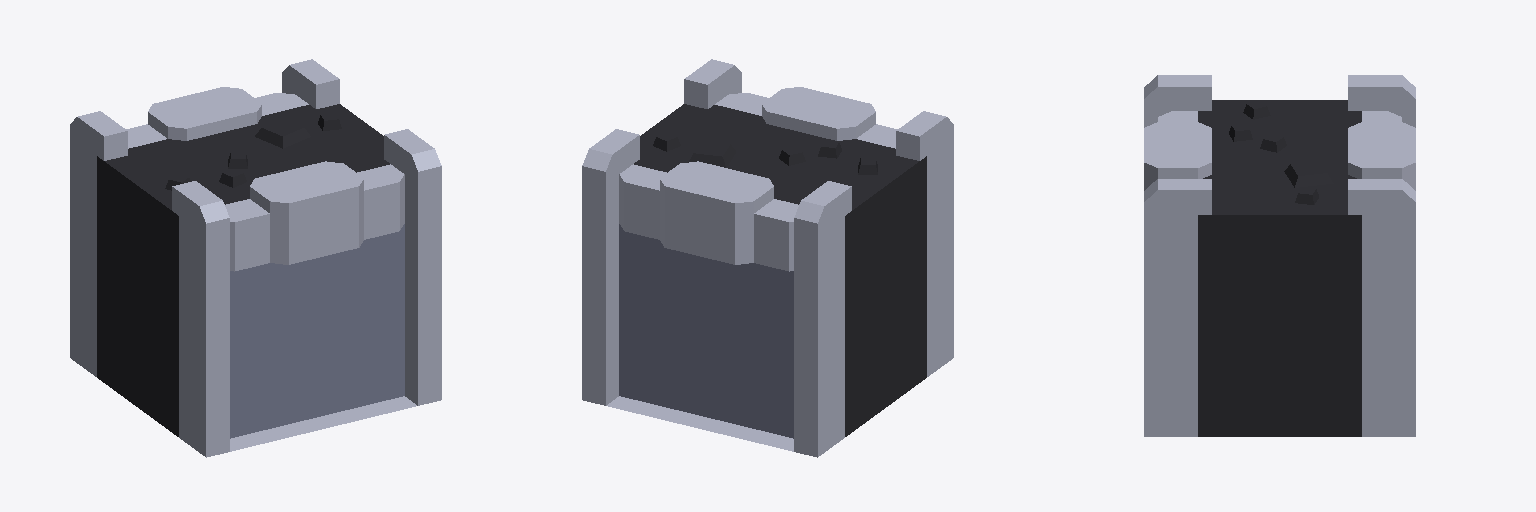
Rendered from wall-narrow.obj.
3 renders of one model, left to right at view 1: azimuth 30°, elevation 25°; view 2: azimuth 150°, elevation 25°; view 3: azimuth 270°, elevation 25°, orthographic.
Parts seen in each view (by area): view 1: wall-narrow; view 2: wall-narrow; view 3: wall-narrow.
Boxes of the visible parts, <box> form: wall-narrow: <box>70,59,441,457</box>; wall-narrow: <box>582,59,953,457</box>; wall-narrow: <box>1144,75,1415,436</box>.
Size of the model in its own units: 1 by 1 by 1.